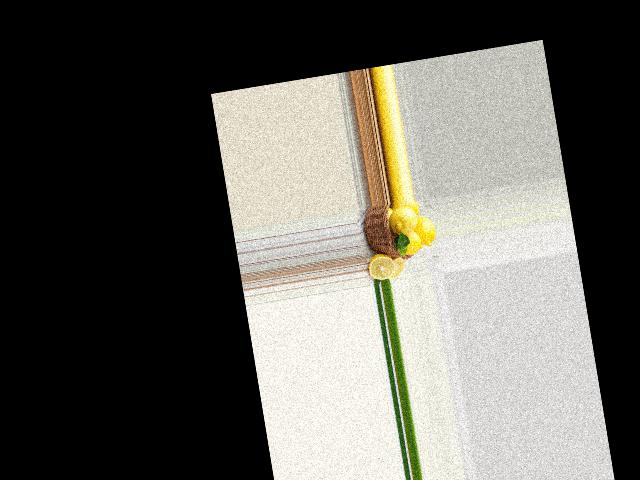lemon: (393, 226, 424, 258)
